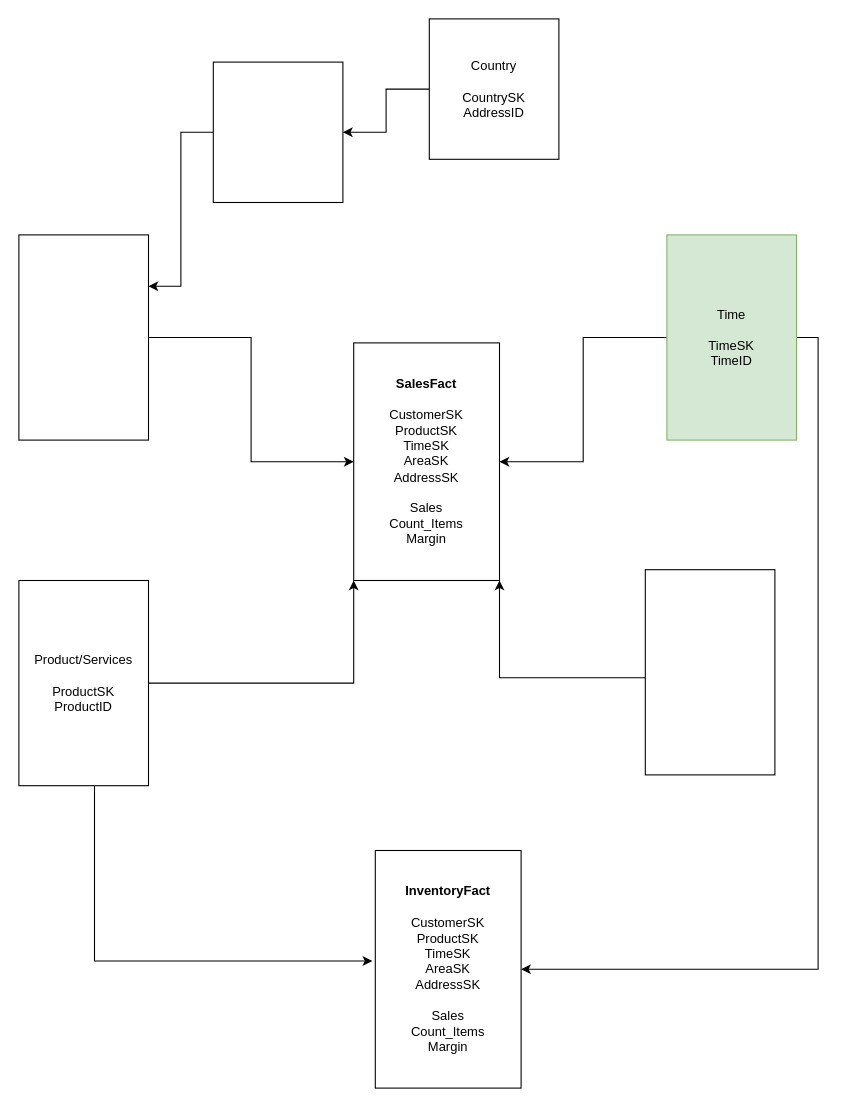
Image size: 846x1107. Some labels were removed from this diagram. Here are the shapes that lost their labels. From the top down, the centre of each, then its label:
At [277,131]: "Address AddressSK AddressID".
At [83,337]: "Customer CustomerSK CustomerID CustomeAge CustomerGender".
At [709,672]: "Area AreaSK AreaID".
